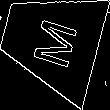M_W: (23, 11, 78, 70)
